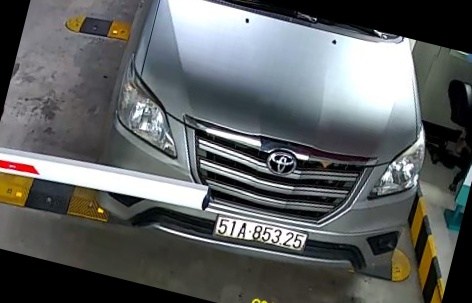plate: (206, 210, 302, 261)
